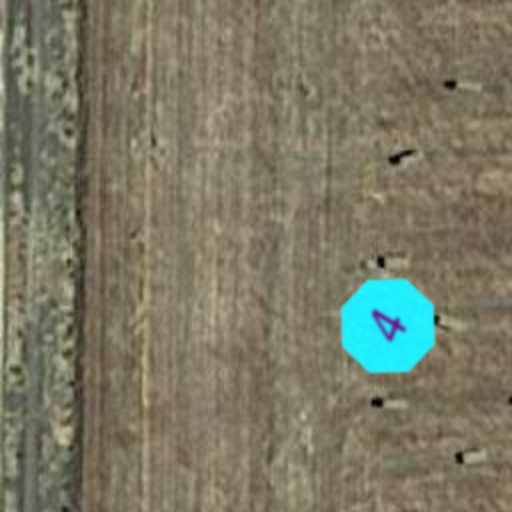octagon: (322, 260, 454, 392)
